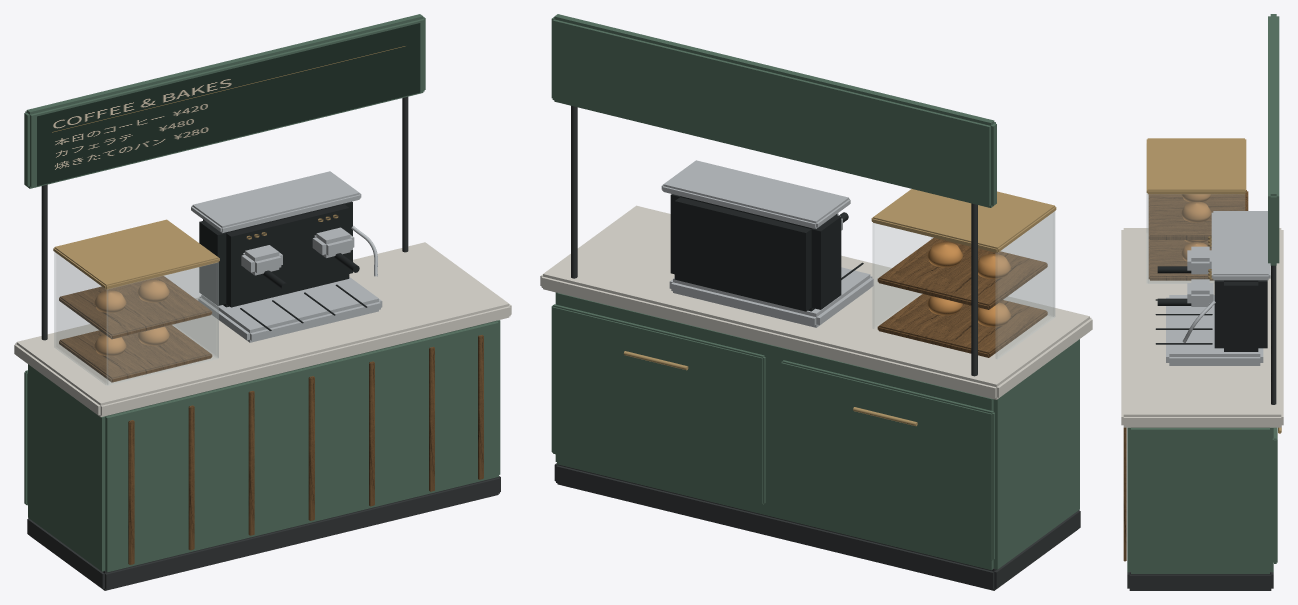
Rendered from fixture_v24_coffee_station.glb.
The picture shows the model from 3 angles, left to right: view 1: azimuth 30°, elevation 25°; view 2: azimuth 150°, elevation 25°; view 3: azimuth 270°, elevation 25°; orthographic projection. The views are drawn at different scales.
Visible parts, largest first — view 1: fixture_v24_coffee_station_Cafe_sage_enamel, fixture_v24_coffee_station_Original_coffee_menu, fixture_v24_coffee_station_Honed_solid_surface, fixture_v24_coffee_station_Shop_display_glass, fixture_v24_coffee_station_CC0_Oak_veneer, fixture_v24_coffee_station_Brushed_stainless, fixture_v24_coffee_station_Anodised_graphite, fixture_v24_coffee_station_Coffee_machine_body, fixture_v24_coffee_station_Satin_champagne, fixture_v24_coffee_station_Laminated_pastry; view 2: fixture_v24_coffee_station_Cafe_sage_enamel, fixture_v24_coffee_station_Honed_solid_surface, fixture_v24_coffee_station_Coffee_machine_body, fixture_v24_coffee_station_Anodised_graphite, fixture_v24_coffee_station_CC0_Oak_veneer, fixture_v24_coffee_station_Brushed_stainless, fixture_v24_coffee_station_Shop_display_glass, fixture_v24_coffee_station_Satin_champagne, fixture_v24_coffee_station_Laminated_pastry; view 3: fixture_v24_coffee_station_Cafe_sage_enamel, fixture_v24_coffee_station_Honed_solid_surface, fixture_v24_coffee_station_Brushed_stainless, fixture_v24_coffee_station_Satin_champagne, fixture_v24_coffee_station_Shop_display_glass, fixture_v24_coffee_station_CC0_Oak_veneer, fixture_v24_coffee_station_Coffee_machine_body, fixture_v24_coffee_station_Anodised_graphite, fixture_v24_coffee_station_Laminated_pastry.
Part boxes in pixels (x1=…): fixture_v24_coffee_station_Cafe_sage_enamel: x1=24, y1=14, x2=500, y2=572; fixture_v24_coffee_station_Original_coffee_menu: x1=37, y1=23, x2=420, y2=185; fixture_v24_coffee_station_Honed_solid_surface: x1=14, y1=242, x2=511, y2=416; fixture_v24_coffee_station_Shop_display_glass: x1=54, y1=252, x2=218, y2=385; fixture_v24_coffee_station_CC0_Oak_veneer: x1=59, y1=276, x2=483, y2=564; fixture_v24_coffee_station_Brushed_stainless: x1=191, y1=171, x2=382, y2=342; fixture_v24_coffee_station_Anodised_graphite: x1=27, y1=96, x2=500, y2=590; fixture_v24_coffee_station_Coffee_machine_body: x1=199, y1=201, x2=367, y2=330; fixture_v24_coffee_station_Satin_champagne: x1=53, y1=214, x2=338, y2=289; fixture_v24_coffee_station_Laminated_pastry: x1=94, y1=280, x2=169, y2=356; fixture_v24_coffee_station_Cafe_sage_enamel: x1=551, y1=14, x2=1079, y2=570; fixture_v24_coffee_station_Honed_solid_surface: x1=540, y1=205, x2=1092, y2=399; fixture_v24_coffee_station_Coffee_machine_body: x1=670, y1=194, x2=863, y2=311; fixture_v24_coffee_station_Anodised_graphite: x1=554, y1=106, x2=1080, y2=590; fixture_v24_coffee_station_CC0_Oak_veneer: x1=877, y1=237, x2=1047, y2=357; fixture_v24_coffee_station_Brushed_stainless: x1=661, y1=160, x2=873, y2=327; fixture_v24_coffee_station_Shop_display_glass: x1=872, y1=211, x2=1055, y2=358; fixture_v24_coffee_station_Satin_champagne: x1=623, y1=189, x2=1056, y2=426; fixture_v24_coffee_station_Laminated_pastry: x1=927, y1=242, x2=1010, y2=326; fixture_v24_coffee_station_Cafe_sage_enamel: x1=1127, y1=14, x2=1279, y2=573; fixture_v24_coffee_station_Honed_solid_surface: x1=1121, y1=228, x2=1283, y2=427; fixture_v24_coffee_station_Brushed_stainless: x1=1166, y1=211, x2=1270, y2=365; fixture_v24_coffee_station_Satin_champagne: x1=1146, y1=138, x2=1281, y2=433; fixture_v24_coffee_station_Shop_display_glass: x1=1146, y1=193, x2=1244, y2=283; fixture_v24_coffee_station_CC0_Oak_veneer: x1=1123, y1=190, x2=1248, y2=561; fixture_v24_coffee_station_Coffee_machine_body: x1=1155, y1=266, x2=1267, y2=351; fixture_v24_coffee_station_Anodised_graphite: x1=1127, y1=265, x2=1276, y2=590; fixture_v24_coffee_station_Laminated_pastry: x1=1181, y1=194, x2=1211, y2=261.
Size of the model in its own units: 2.2 by 2.15 by 0.8.
10 materials, 2 textured.
